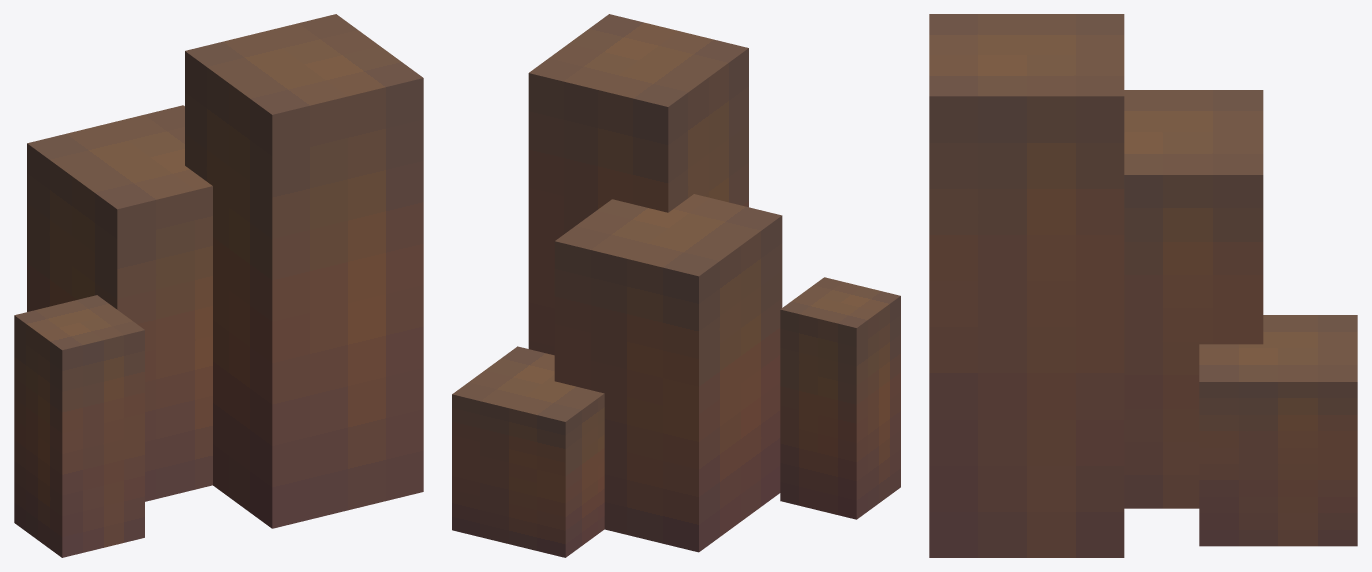
The model's file is pentlandite_crystal_four.obj.
3 views of the same model, side by side, from view 1: azimuth 30°, elevation 25°; view 2: azimuth 150°, elevation 25°; view 3: azimuth 270°, elevation 25° (orthographic). The views are drawn at different scales.
Visible parts, largest first — view 1: Crystal5_Cube.008; view 2: Crystal5_Cube.008; view 3: Crystal5_Cube.008.
Part boxes in pixels (box(x1,y1,x2,y2)): Crystal5_Cube.008: box(14, 14, 423, 557); Crystal5_Cube.008: box(452, 14, 900, 557); Crystal5_Cube.008: box(929, 14, 1357, 557).
Size of the model in its own units: 0.4231 by 0.494 by 0.4151.
